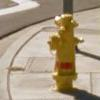Hydrant: (42, 6, 89, 87)
